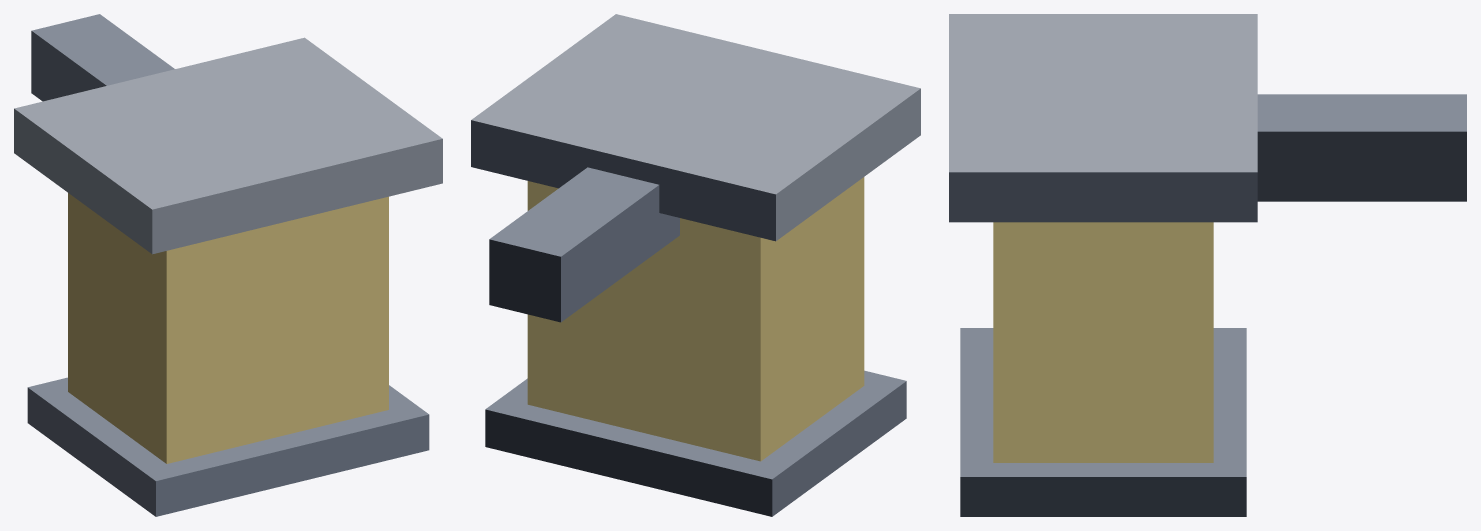
Rendered from bld_lamp.glb.
3 views of the same model, side by side, from view 1: azimuth 30°, elevation 25°; view 2: azimuth 150°, elevation 25°; view 3: azimuth 270°, elevation 25° (orthographic). The views are drawn at different scales.
Visible parts, largest first — view 1: bld_lamp; view 2: bld_lamp; view 3: bld_lamp.
Boxes of the visible parts, x1,y1,x2,y2 form: bld_lamp: (14,14,442,516); bld_lamp: (471,14,920,516); bld_lamp: (949,14,1466,516).
Size of the model in its own units: 0.2125 by 0.2187 by 0.2937.
